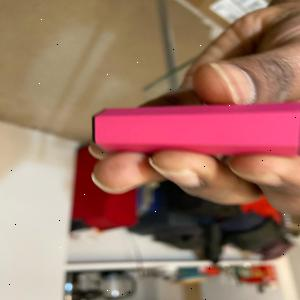Blume-E-Ciggirate: (89, 99, 300, 158)
